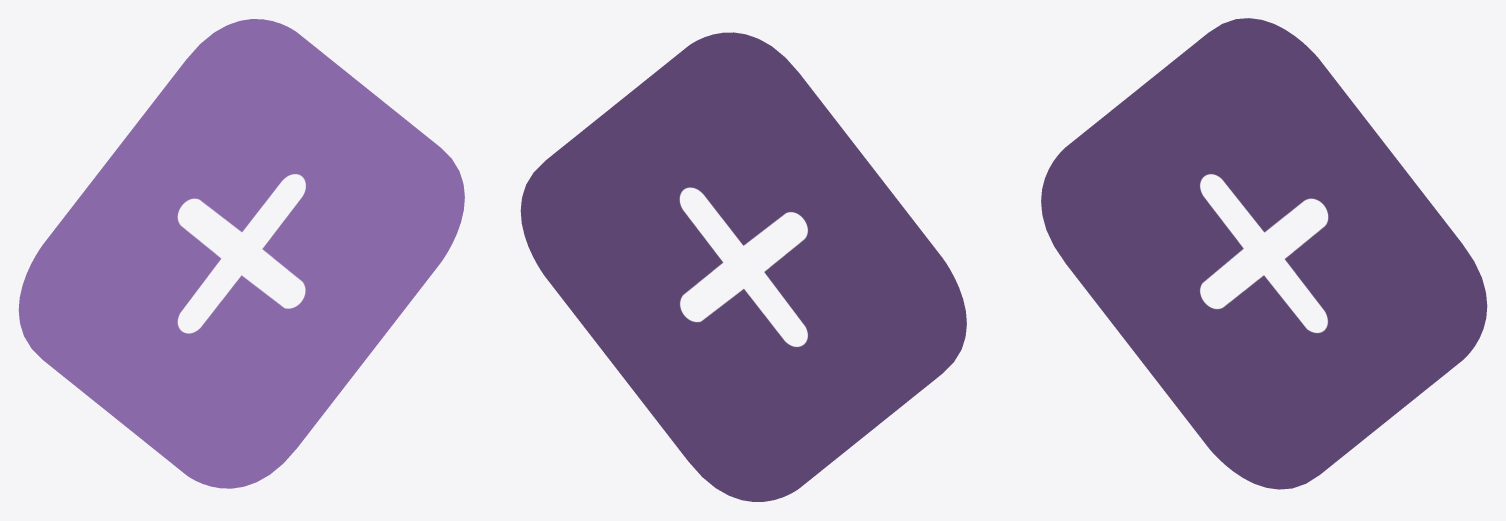
File: pandi_cross.glb
3 views of the same model, side by side, from view 1: azimuth 30°, elevation 25°; view 2: azimuth 150°, elevation 25°; view 3: azimuth 330°, elevation 25° (orthographic).
Visible parts, largest first — view 1: P_cross; view 2: P_cross; view 3: P_cross.
Boxes of the visible parts, bbox=[...] form: P_cross: bbox=[18, 19, 464, 488]; P_cross: bbox=[520, 32, 966, 501]; P_cross: bbox=[1041, 18, 1487, 489].
Bounding box in the file's own units: 0.1151 × 0.1151 × 0.00954.
3 materials, 2 textured.
